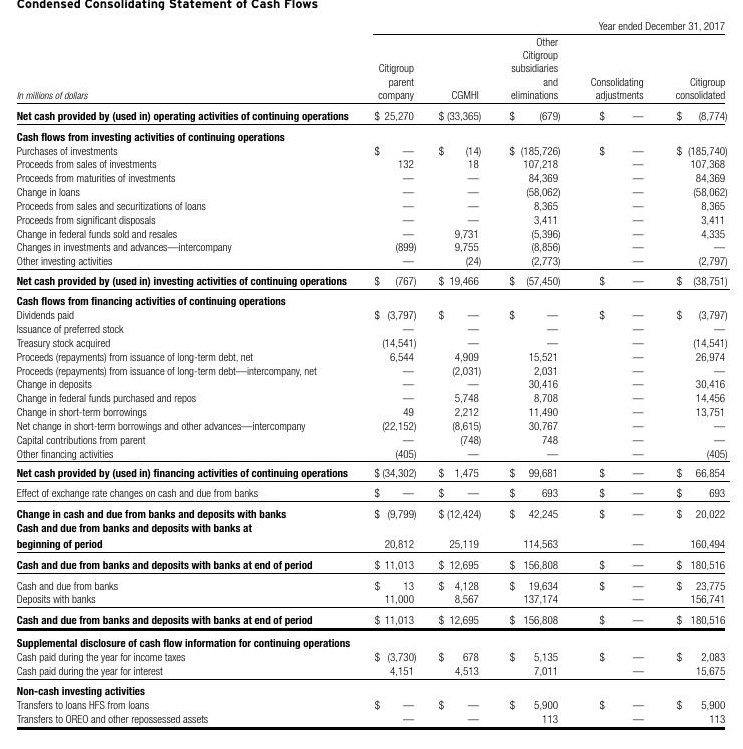table: (0, 0, 743, 749)
